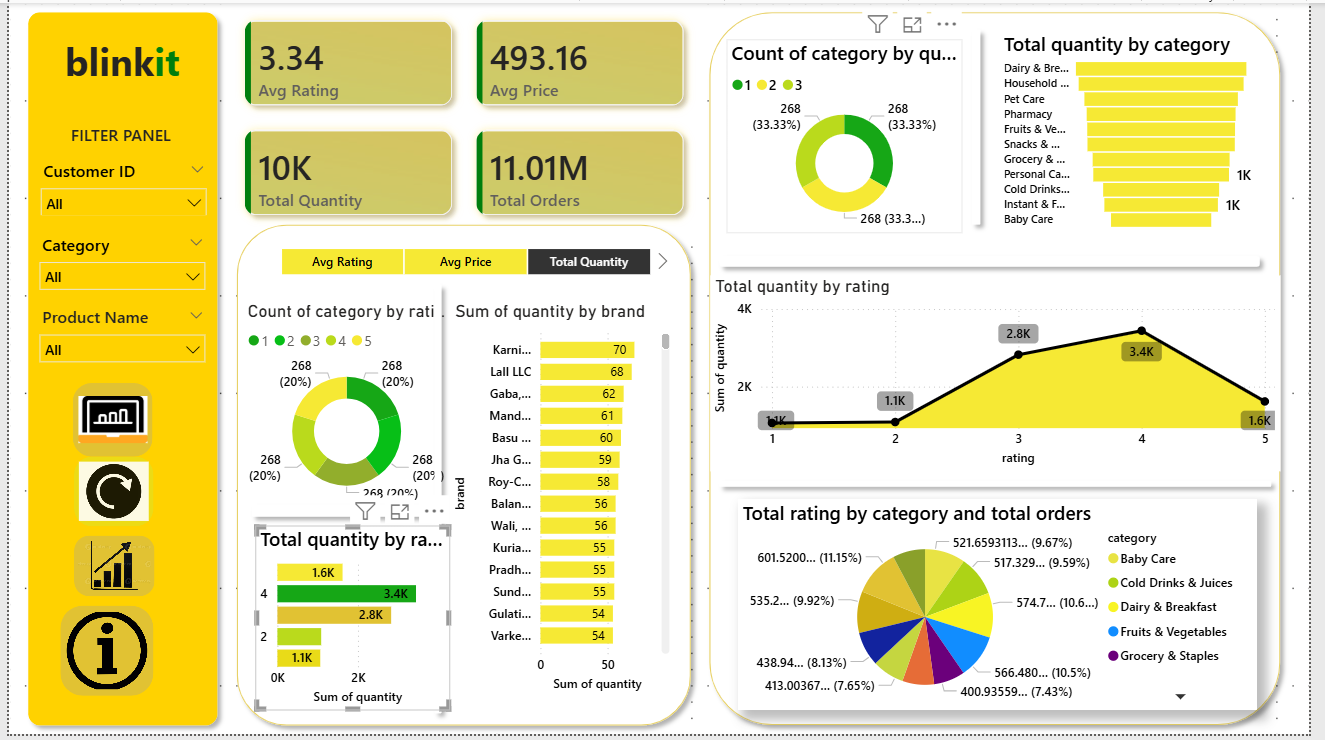

The dashboard page shown, as its layout file describes it:
{"tool":"powerbi","page":{"name":"Page 1","canvas":[1280,720],"ordinal":0},"visuals":[{"type":"shape","box":[9.6,0,204.5,720.4],"z":0},{"type":"textbox","box":[19.2,27.4,183.9,60.4],"z":1000},{"type":"cardVisual","fields":{"Data":["blinkit_customer_feedback.Avg Rating","blinkit_order_items.Avg Price","blinkit_order_items.Total Quantity","blinkit_orders.Total Orders"]},"box":[215,0,466.2,226.2],"z":2000},{"type":"shape","box":[215,208.8,465,511.2],"z":3000},{"type":"slicer","fields":{"Values":["Parameter.Parameter"]},"box":[242.5,235,412.5,38.8],"z":4000},{"type":"donutChart","fields":{"Y":["CountNonNull(blinkit_products.category)"],"Category":["blinkit_customer_feedback.rating"]},"box":[230,292.5,205,208.8],"z":5000},{"type":"clusteredBarChart","fields":{"Category":["blinkit_products.brand"],"Y":["Sum(blinkit_order_items.quantity)"]},"box":[435,292.5,221.2,390],"z":6000},{"type":"clusteredBarChart","title":"Total quantity by rating","fields":{"Category":["blinkit_customer_feedback.rating"],"Y":["Sum(blinkit_order_items.quantity)"]},"box":[242.5,515,192.5,181.2],"z":7000},{"type":"shape","box":[410,268.8,25,440],"z":8000},{"type":"shape","box":[230,485,192.5,30],"z":9000},{"type":"shape","box":[680,0,580,720],"z":10000},{"type":"donutChart","fields":{"Y":["CountNonNull(blinkit_products.category)"],"Category":["blinkit_order_items.quantity"]},"box":[706.2,36.2,232.5,190],"z":11000},{"type":"pieChart","title":"Total rating by category and total orders","fields":{"Category":["blinkit_products.category"],"Y":["blinkit_order_items.Avg Price"]},"box":[717.5,488.8,511.2,207.5],"z":12000},{"type":"funnel","title":"Total quantity by category","fields":{"Y":["Sum(blinkit_order_items.quantity)"],"Category":["blinkit_products.category"]},"box":[975,27.5,253.8,200],"z":13000},{"type":"lineChart","title":"Total quantity by rating","fields":{"Category":["blinkit_customer_feedback.rating"],"Y":["Sum(blinkit_order_items.quantity)"]},"box":[690,268.8,561.2,192.5],"z":14000},{"type":"shape","box":[938.8,17.5,26.2,210],"z":15000},{"type":"shape","box":[690,240,550,28.8],"z":16000},{"type":"shape","box":[690,461.2,561.2,23.8],"z":17000},{"type":"slicer","fields":{"Values":["blinkit_orders.customer_id"]},"box":[21.2,148.8,183.8,60],"z":18000},{"type":"slicer","fields":{"Values":["blinkit_products.category"]},"box":[20,221.2,183.8,66.2],"z":19000},{"type":"slicer","fields":{"Values":["blinkit_products.product_name"]},"box":[20,292.5,183.8,62.5],"z":20000},{"type":"textbox","box":[18.8,113.8,183.8,42.5],"z":21000},{"type":"actionButton","box":[62.5,373.8,78.8,72.5],"z":22000},{"type":"actionButton","box":[63.6,446.3,78.3,68.5],"z":23000},{"type":"actionButton","box":[63.6,524.6,79.5,59.9],"z":24000},{"type":"actionButton","box":[0,0,100,40],"z":26000},{"type":"actionButton","box":[0,0,100,40],"z":26001},{"type":"actionButton","box":[50.1,592.7,91.8,89],"z":26002}]}

Visuals, with their boxes in screenshot pixels (x1, y1, x2, y2), scaled from the page's 1280x720 canvas onto the 1325x740 screenshot:
shape: BBox(10, 0, 222, 739)
textbox: BBox(20, 28, 210, 90)
cardVisual - blinkit_customer_feedback.Avg Rating x blinkit_order_items.Avg Price: BBox(223, 0, 705, 232)
shape: BBox(223, 215, 704, 739)
slicer - Parameter.Parameter: BBox(251, 242, 678, 281)
donutChart - CountNonNull(blinkit_products.category) x blinkit_customer_feedback.rating: BBox(238, 301, 450, 515)
clusteredBarChart - blinkit_products.brand x Sum(blinkit_order_items.quantity): BBox(450, 301, 679, 701)
"Total quantity by rating" clusteredBarChart: BBox(251, 529, 450, 716)
shape: BBox(424, 276, 450, 728)
shape: BBox(238, 498, 437, 529)
shape: BBox(704, 0, 1304, 739)
donutChart - CountNonNull(blinkit_products.category) x blinkit_order_items.quantity: BBox(731, 37, 972, 232)
"Total rating by category and total orders" pieChart: BBox(743, 502, 1272, 716)
"Total quantity by category" funnel: BBox(1009, 28, 1272, 234)
"Total quantity by rating" lineChart: BBox(714, 276, 1295, 474)
shape: BBox(972, 18, 999, 234)
shape: BBox(714, 247, 1284, 276)
shape: BBox(714, 474, 1295, 498)
slicer - blinkit_orders.customer_id: BBox(22, 153, 212, 215)
slicer - blinkit_products.category: BBox(21, 227, 211, 295)
slicer - blinkit_products.product_name: BBox(21, 301, 211, 365)
textbox: BBox(19, 117, 210, 161)
actionButton: BBox(65, 384, 146, 459)
actionButton: BBox(66, 459, 147, 529)
actionButton: BBox(66, 539, 148, 601)
actionButton: BBox(0, 0, 104, 41)
actionButton: BBox(0, 0, 104, 41)
actionButton: BBox(52, 609, 147, 701)
